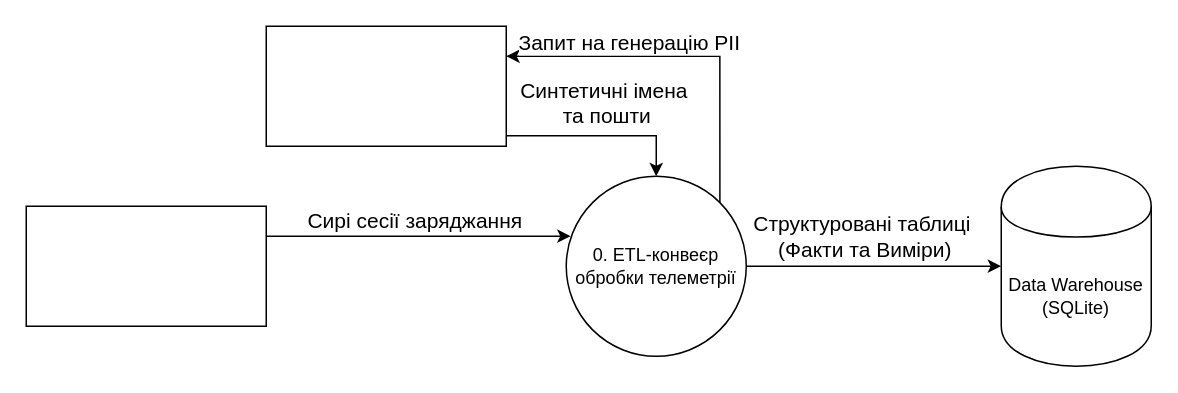
The diagram is 1178 pixels wide and 393 high, and some of its shapes have lost their labels. The box of each missing label's shape, as (x1, y1, x2, y2) in pixels:
Сервіс маскування (Faker): (265, 25, 506, 146)
Файлова система (CSV): (25, 205, 266, 326)
